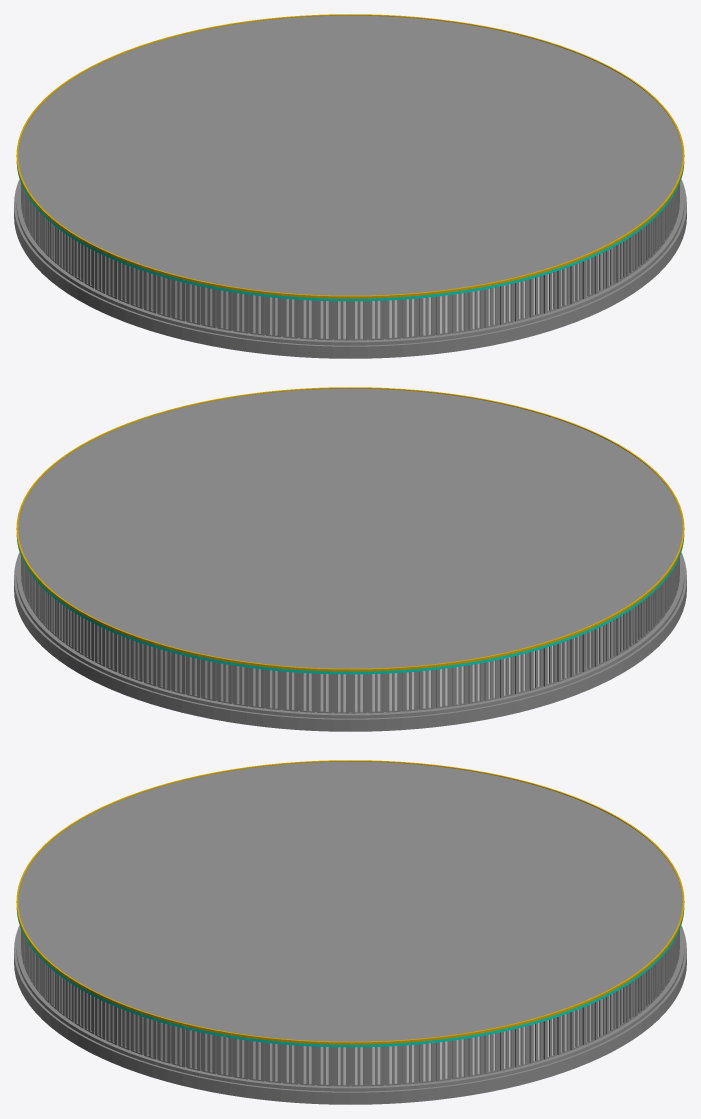
Rendered from Plateau.fbx.
The picture shows the model from 3 angles, top to bottom: view 1: azimuth 30°, elevation 25°; view 2: azimuth 150°, elevation 25°; view 3: azimuth 270°, elevation 25°; orthographic projection.
Parts seen in each view (by area): view 1: Plateau; view 2: Plateau; view 3: Plateau.
Boxes of the visible parts, x1=… form: Plateau: x1=14, y1=14, x2=686, y2=358; Plateau: x1=14, y1=387, x2=686, y2=731; Plateau: x1=14, y1=760, x2=686, y2=1104.
Size of the model in its own units: 1209 by 121 by 1209.
